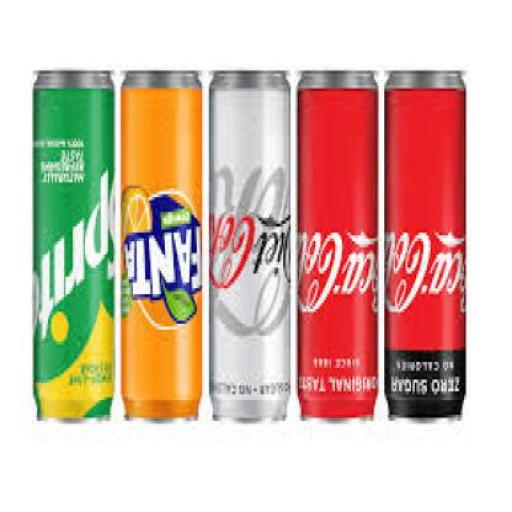metal: (33, 73, 117, 433), (384, 74, 470, 423), (298, 70, 379, 427), (122, 74, 204, 426), (211, 74, 292, 423)
